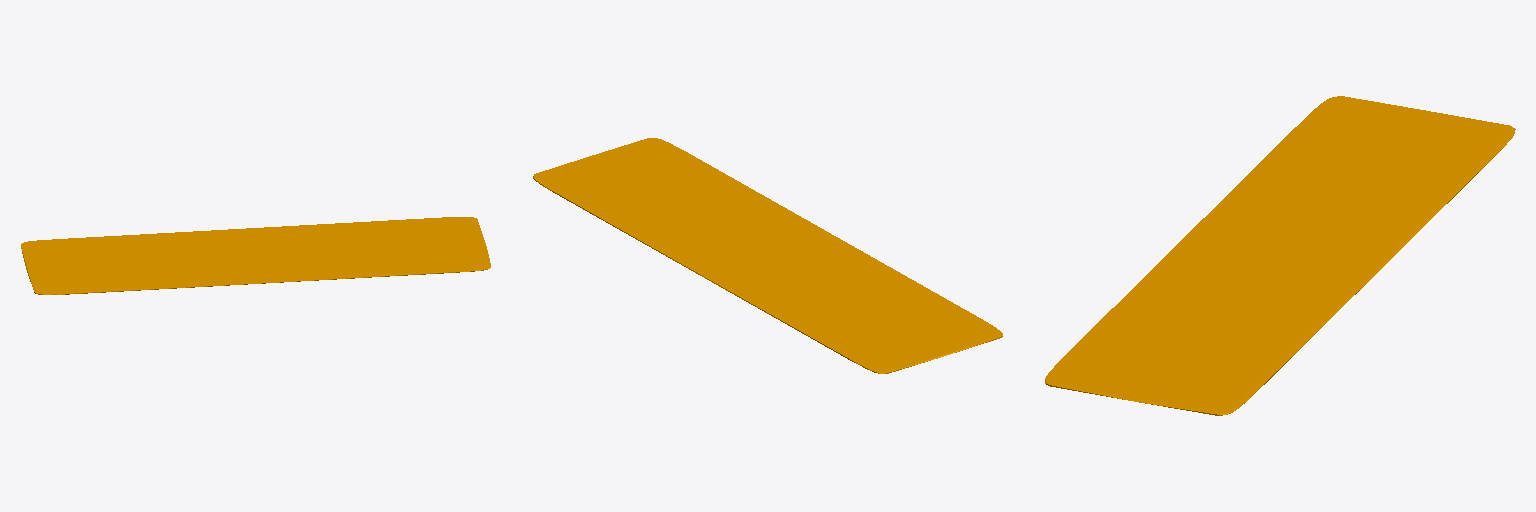
URDF robot description (scene):
<?xml version='1.0' encoding='utf-8'?>
<robot name="scene"><link name="scene_link"><visual><origin xyz="0.000000 0.000000 0.000000" rpy="0.000000 -0.000000 0.000000" /><geometry><mesh filename="part_000.obj" /></geometry></visual><collision><origin xyz="0.000000 0.000000 0.000000" rpy="0.000000 -0.000000 0.000000" /><geometry><mesh filename="part_000.obj" /></geometry></collision></link></robot>

--- What the picture shows (computed from the rendered views, not written in the file) ---
Views: 3 orthographic renders of the robot side by side, from view 1: azimuth 30°, elevation 25°; view 2: azimuth 150°, elevation 25°; view 3: azimuth 270°, elevation 25°.
Robot: scene — 1 links, 0 joints (none); root link scene_link; default pose: every joint at zero.
Links seen in each view (by area): view 1: scene_link; view 2: scene_link; view 3: scene_link.
Boxes of the visible links, bbox=[...] form: scene_link: bbox=[21, 217, 490, 294]; scene_link: bbox=[533, 138, 1002, 373]; scene_link: bbox=[1045, 96, 1515, 415].
Bounding box of the posed robot: 17.27 × 10.67 × 0.121 m (x, y, z).
Meshes: 1 distinct files referenced, 1 mesh visuals loaded (1 OBJ).
